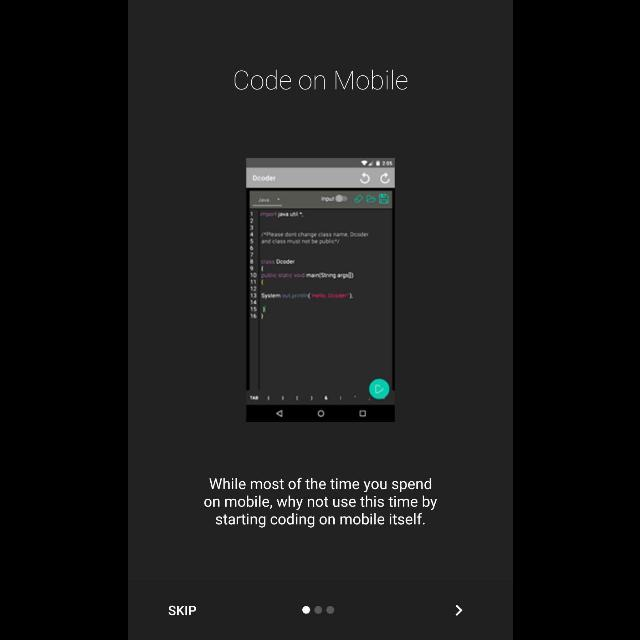icon: (454, 604, 462, 616)
image: (246, 158, 394, 422)
pageindicator: (302, 606, 334, 614)
text: (203, 478, 437, 528), (233, 70, 407, 90), (168, 606, 196, 616)
